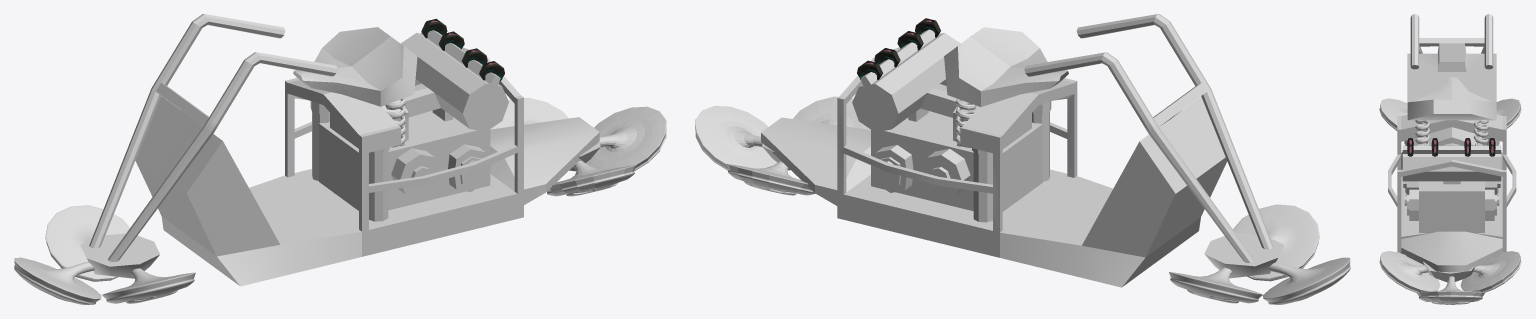
File: scooter.fbx
3 renders of one model, left to right at view 1: azimuth 30°, elevation 25°; view 2: azimuth 150°, elevation 25°; view 3: azimuth 270°, elevation 25°, orthographic. The views are drawn at different scales.
Parts seen in each view (by area): view 1: scooter_mesh, frontThrusters, rearThrusters; view 2: scooter_mesh, frontThrusters, rearThrusters; view 3: scooter_mesh, rearThrusters, frontThrusters, boardClip_mesh (×2).
Part boxes in pixels (<box>): scooter_mesh: <box>89,14,599,286</box>; frontThrusters: <box>14,205,195,304</box>; rearThrusters: <box>490,98,666,196</box>; scooter_mesh: <box>761,14,1273,287</box>; frontThrusters: <box>1169,204,1350,304</box>; rearThrusters: <box>695,96,870,195</box>; scooter_mesh: <box>1388,14,1516,272</box>; rearThrusters: <box>1379,251,1521,304</box>; frontThrusters: <box>1379,98,1521,130</box>; boardClip_mesh (×2): <box>1407,138,1495,156</box>.
Bounding box in the file's own units: 266 × 90.42 × 72.21.
